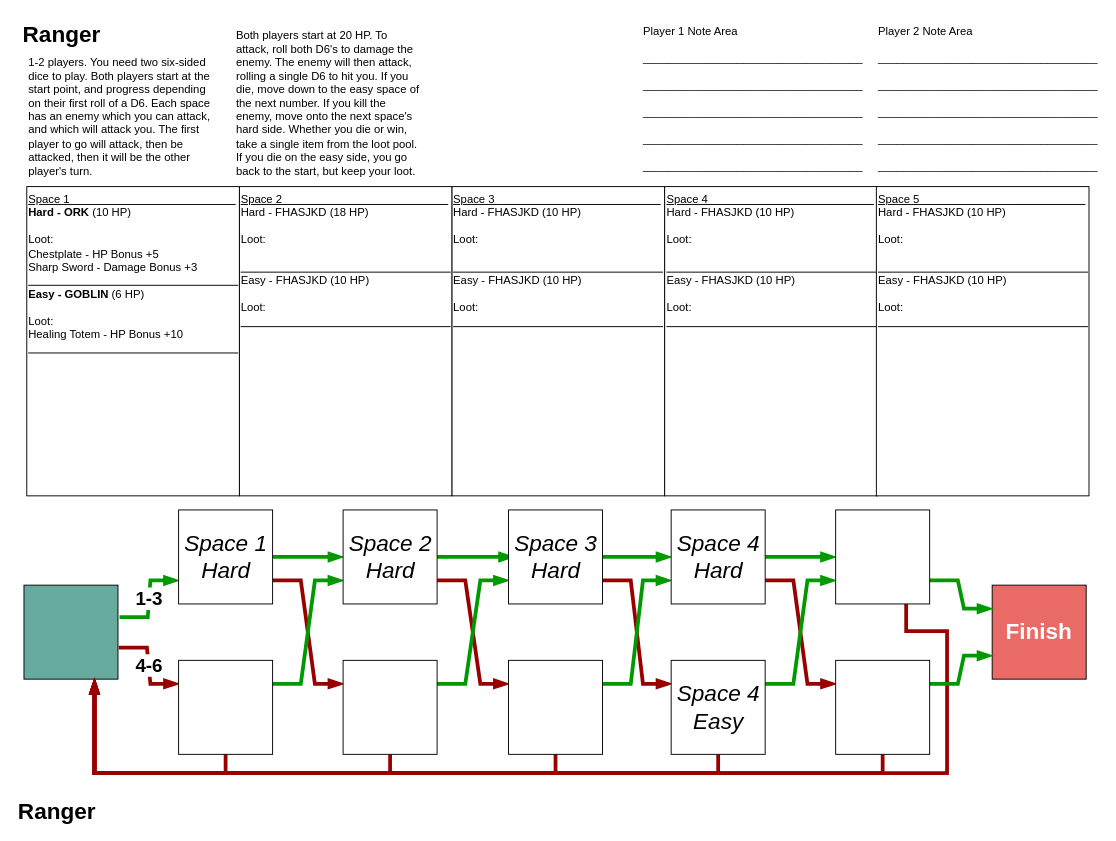
This 1116x841 diagram has some shape labels left out. The shapes that lost their labels are listed below. From the top down, each one's centre as x and y in pixels, then its label:
At point (882, 556): "Space 5 Hard".
At point (70, 631): "Start".
At point (225, 706): "Space 1 Easy".
At point (389, 706): "Space 2 Easy".
At point (555, 706): "Space 3 Easy".
At point (882, 706): "Space 5 Easy".
